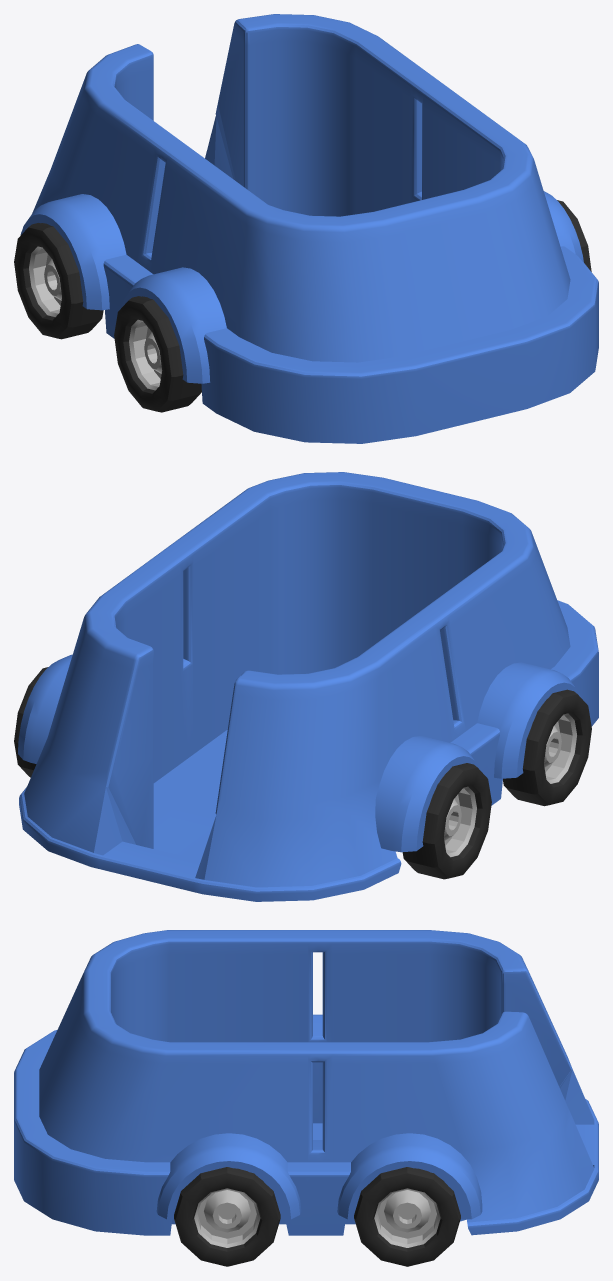
The model's file is Car_6.fbx.
3 renders of one model, top to bottom at view 1: azimuth 30°, elevation 25°; view 2: azimuth 150°, elevation 25°; view 3: azimuth 270°, elevation 25°, orthographic. The views are drawn at different scales.
Parts seen in each view (by area): view 1: Sm_Car_6; view 2: Sm_Car_6; view 3: Sm_Car_6.
Boxes of the visible parts, x1=… form: Sm_Car_6: x1=14, y1=14, x2=598, y2=443; Sm_Car_6: x1=14, y1=472, x2=598, y2=901; Sm_Car_6: x1=14, y1=930, x2=598, y2=1266.
Size of the model in its own units: 448 by 209 by 595.
